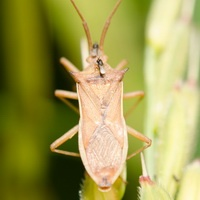insect: (50, 0, 151, 199)
